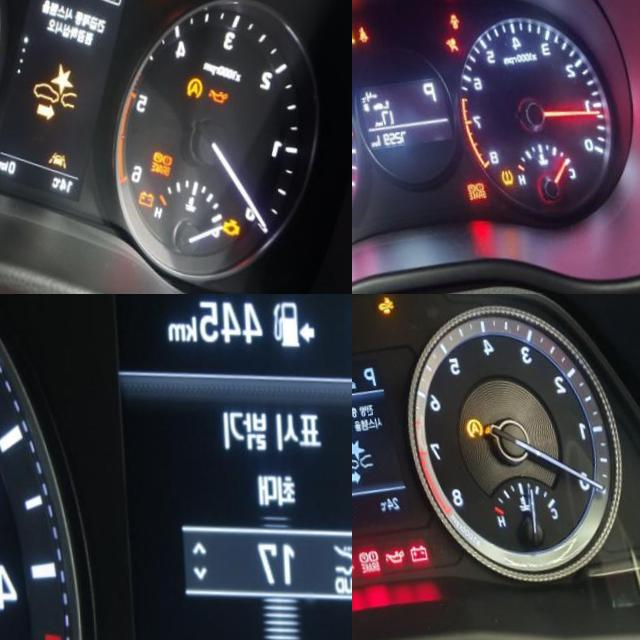Doors: (447, 7, 459, 25)
LaneCenteringOff: (46, 145, 68, 165)
